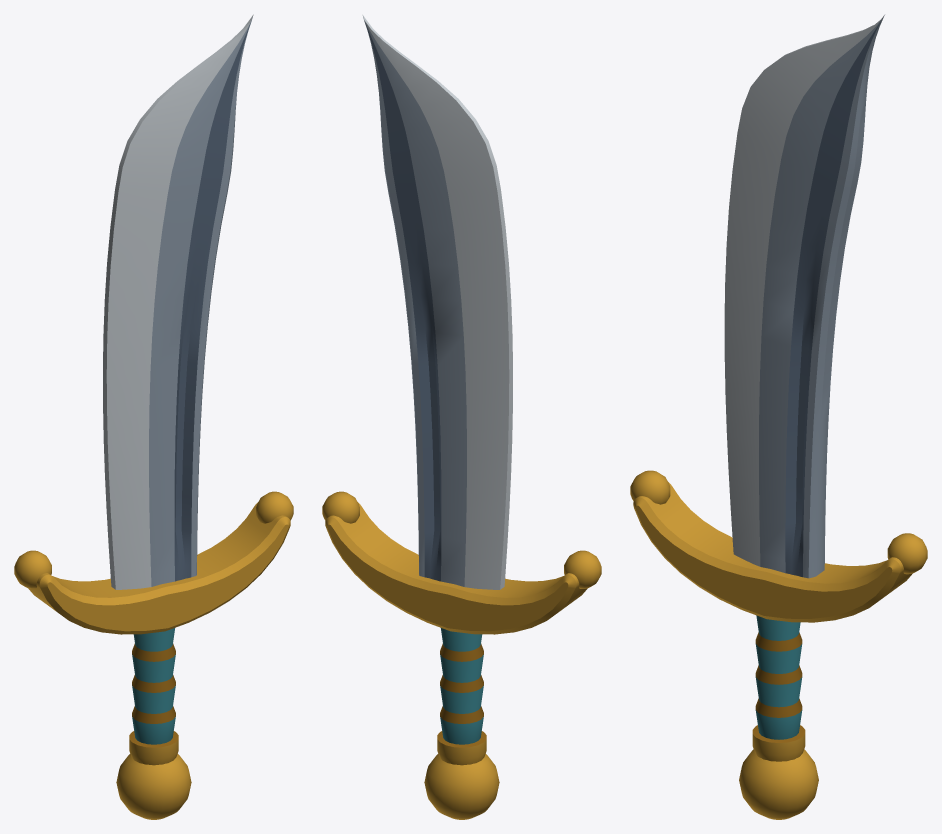
Rendered from Scimitar_03.glb.
3 views of the same model, side by side, from view 1: azimuth 30°, elevation 25°; view 2: azimuth 150°, elevation 25°; view 3: azimuth 330°, elevation 25° (orthographic). The views are drawn at different scales.
Parts seen in each view (by area): view 1: Scimitar_03; view 2: Scimitar_03; view 3: Scimitar_03.
Part boxes in pixels (x1,y1,x2,y2): Scimitar_03: (14, 14, 293, 819); Scimitar_03: (322, 14, 601, 819); Scimitar_03: (630, 15, 927, 819).
Bounding box in the file's own units: 2.46 × 6.67 × 0.584.
